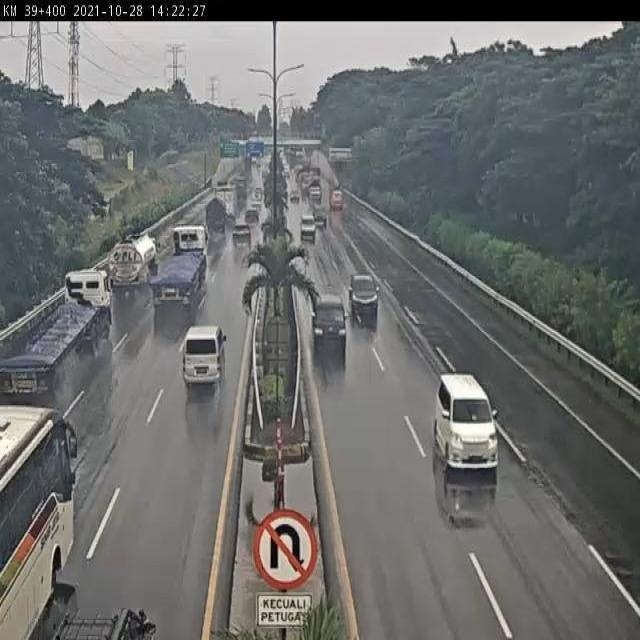car: (433, 371, 499, 473), (181, 324, 228, 388), (309, 292, 349, 353)
truck: (0, 407, 78, 639), (0, 266, 114, 406), (153, 223, 209, 309), (109, 231, 159, 288), (203, 196, 228, 240), (212, 185, 237, 224)
